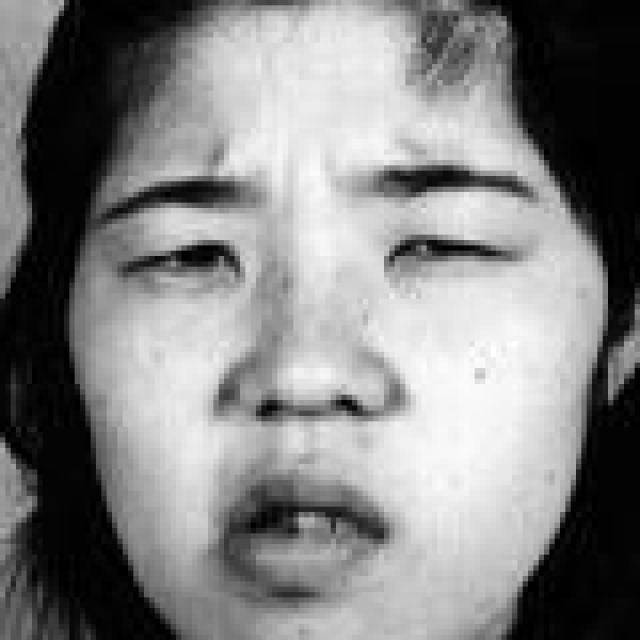disgust: (79, 49, 539, 628)
